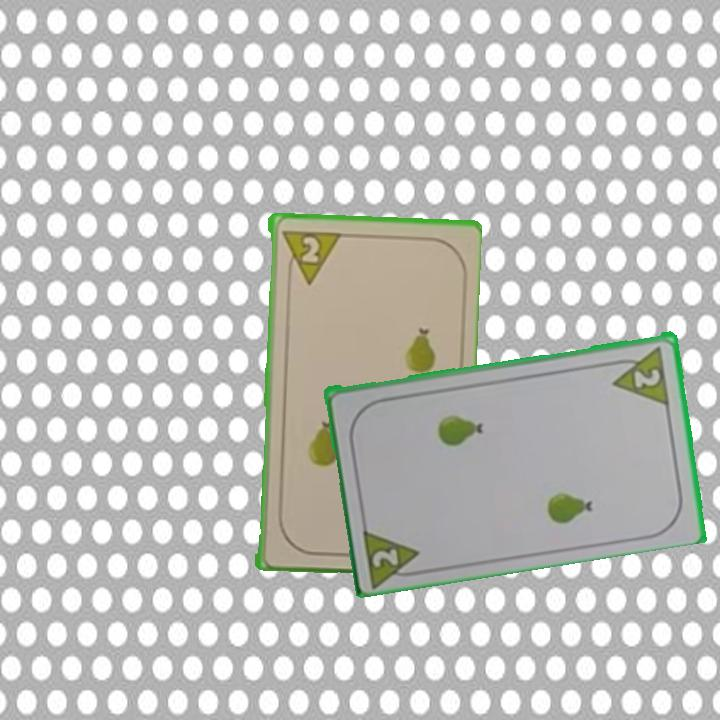2p: (359, 521, 427, 587), (607, 342, 673, 406), (277, 226, 341, 286)
